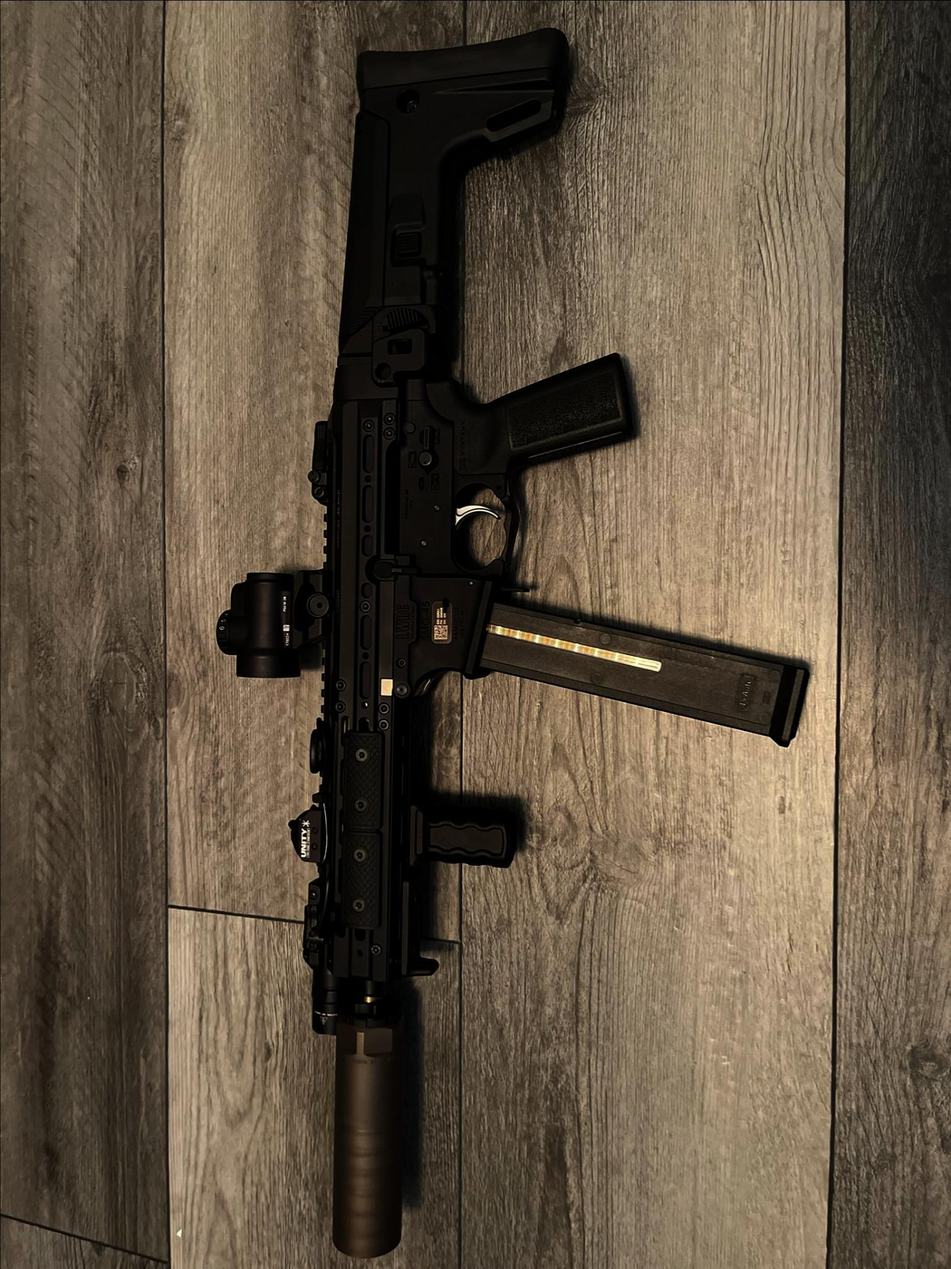gun: (199, 0, 850, 1261)
